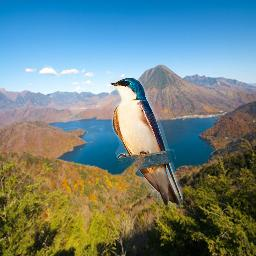Swallow: (110, 77, 183, 207)
